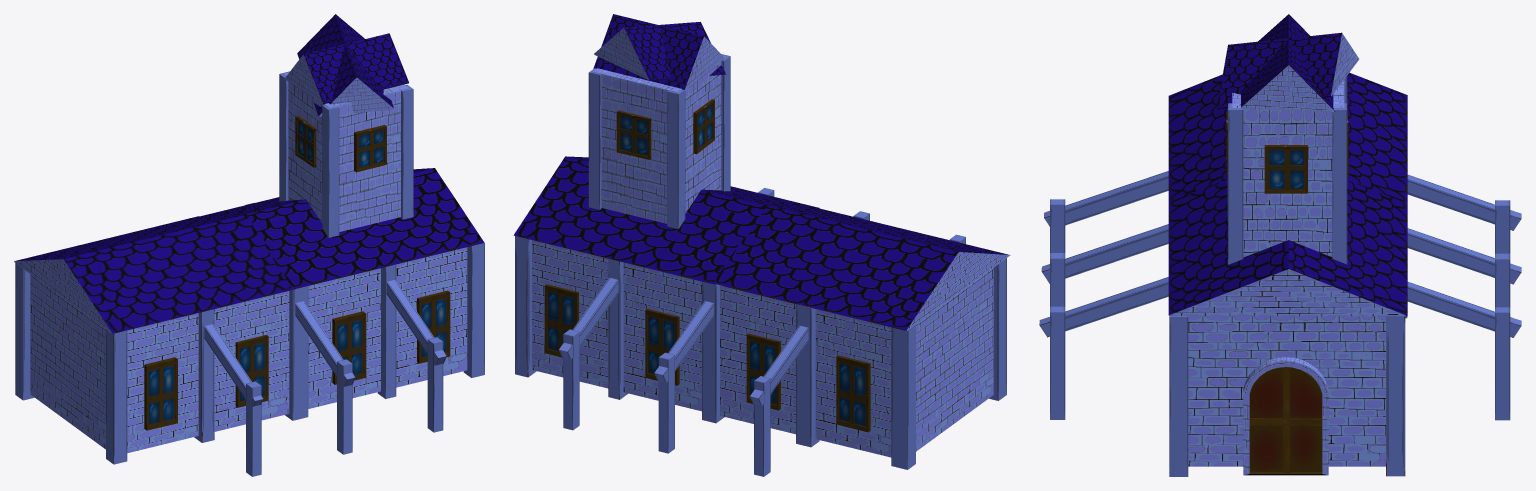
The model's file is eglise_cartoon.fbx.
3 views of the same model, side by side, from view 1: azimuth 30°, elevation 25°; view 2: azimuth 150°, elevation 25°; view 3: azimuth 270°, elevation 25° (orthographic). The views are drawn at different scales.
Visible parts, largest first — view 1: maison.001, toît.001, toît, église, tour, toît.002, toît.003, poto.005, poto, poto.001, poto.025, fenêtre.016 (+16 smaller); view 2: maison.001, toît.001, toît, église, tour, toît.002, poto.006, toît.003, poto.024, poto.007, fenêtre.017, poto.003 (+16 smaller); view 3: toît, église, toît.001, tour, porte, toît.003, toît.002, poto, poto.003, poto.022, poto.023, poto.013 (+12 smaller).
Part boxes in pixels (x1,y1,x2,y2): maison.001: [30, 274, 289, 453]; toît.001: [14, 214, 295, 333]; toît: [201, 168, 484, 289]; église: [308, 247, 467, 408]; tour: [283, 72, 409, 231]; toît.002: [284, 33, 408, 104]; toît.003: [297, 14, 393, 116]; poto.005: [106, 329, 127, 464]; poto: [463, 243, 484, 377]; poto.001: [285, 286, 308, 420]; poto.025: [322, 105, 339, 237]; fenêtre.016: [144, 357, 177, 430]; maison.001: [720, 268, 993, 457]; toît.001: [713, 204, 1010, 330]; toît: [513, 156, 819, 284]; église: [532, 240, 701, 411]; tour: [593, 56, 725, 223]; toît.002: [593, 14, 724, 91]; poto.006: [891, 325, 915, 469]; toît.003: [594, 22, 725, 80]; poto.024: [667, 89, 685, 228]; poto.007: [796, 304, 819, 447]; fenêtre.017: [836, 355, 870, 432]; poto.003: [515, 236, 536, 377]; toît: [1168, 179, 1407, 316]; église: [1188, 316, 1385, 466]; toît.001: [1168, 72, 1407, 203]; tour: [1232, 80, 1344, 257]; porte: [1243, 357, 1328, 475]; toît.003: [1217, 32, 1359, 108]; toît.002: [1241, 14, 1335, 111]; poto: [1169, 316, 1188, 476]; poto.003: [1386, 316, 1405, 476]; poto.022: [1228, 103, 1243, 264]; poto.023: [1332, 103, 1347, 264]; poto.013: [1039, 277, 1168, 337].
Bounding box in the file's own units: 1199 × 1008 × 1107.
Materials: 1 (1 with a texture image).
